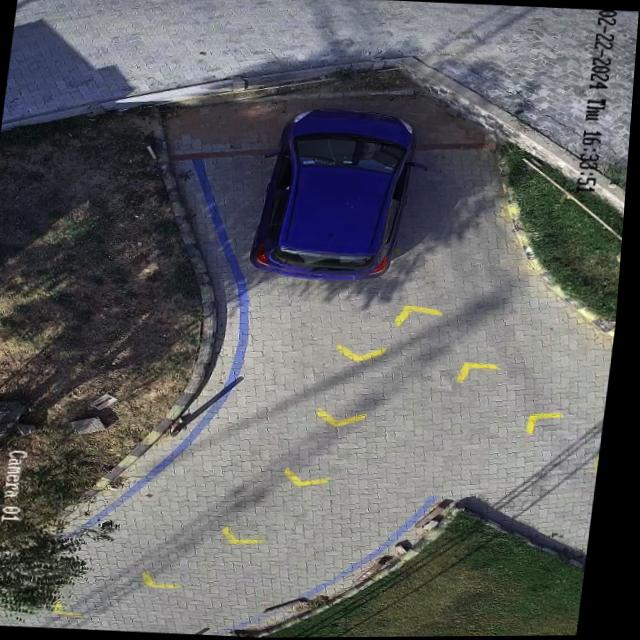car: (255, 109, 425, 281)
